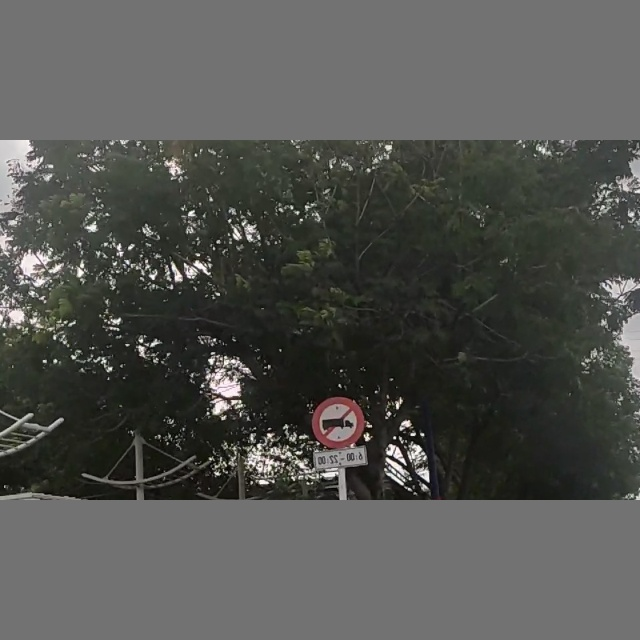B.8a: (314, 398, 368, 469)
